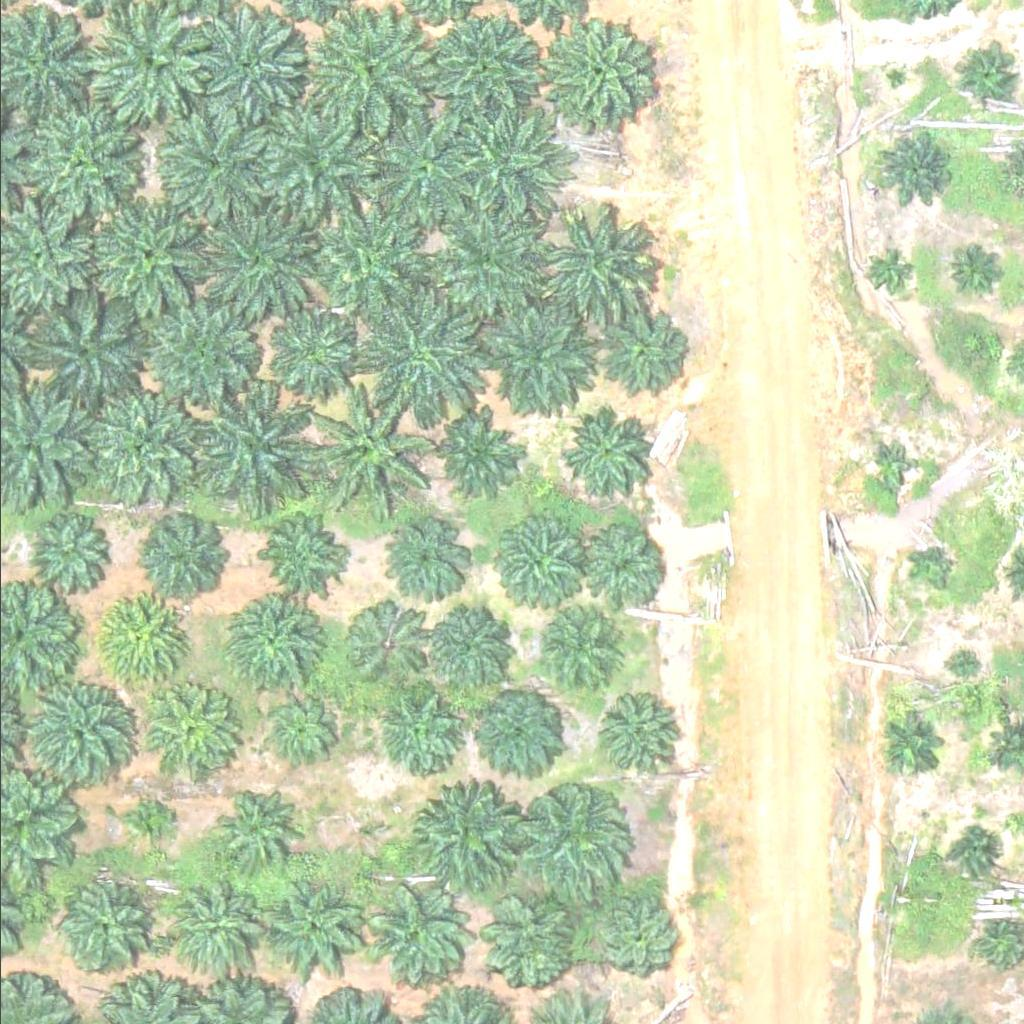Kelapa_Sawit: (534, 205, 660, 330), (426, 197, 552, 322), (298, 202, 424, 327), (186, 202, 312, 327), (76, 196, 202, 321), (16, 96, 142, 221), (249, 103, 375, 228), (357, 108, 483, 233), (437, 102, 563, 227), (417, 6, 543, 131), (188, 5, 314, 130), (83, 1, 209, 126), (355, 287, 481, 412), (129, 287, 255, 412), (22, 284, 148, 409), (186, 387, 312, 512), (302, 384, 428, 509), (14, 672, 140, 797), (508, 781, 634, 906), (147, 100, 272, 225), (307, 17, 432, 142), (477, 291, 602, 416), (84, 382, 209, 507), (543, 11, 657, 124), (53, 880, 154, 980), (157, 880, 258, 980), (263, 875, 364, 975), (366, 890, 467, 990), (415, 793, 516, 893), (216, 597, 316, 697), (489, 894, 589, 994), (268, 312, 356, 400), (489, 515, 577, 603), (374, 520, 462, 608), (262, 508, 350, 596), (145, 512, 233, 600), (97, 598, 185, 686), (139, 684, 227, 772), (435, 412, 524, 499), (472, 686, 561, 773), (581, 518, 669, 605), (427, 605, 515, 692), (591, 309, 679, 396), (565, 407, 653, 494), (26, 511, 114, 598), (346, 600, 434, 687), (535, 608, 623, 695), (592, 694, 680, 781), (365, 691, 453, 778), (588, 895, 676, 982), (215, 785, 303, 872), (876, 130, 952, 205), (262, 696, 337, 771), (953, 44, 1016, 107), (882, 716, 945, 779), (906, 548, 957, 598), (864, 442, 915, 492), (945, 243, 995, 293), (945, 825, 995, 875), (128, 798, 178, 848), (864, 249, 914, 299), (941, 643, 979, 681)
